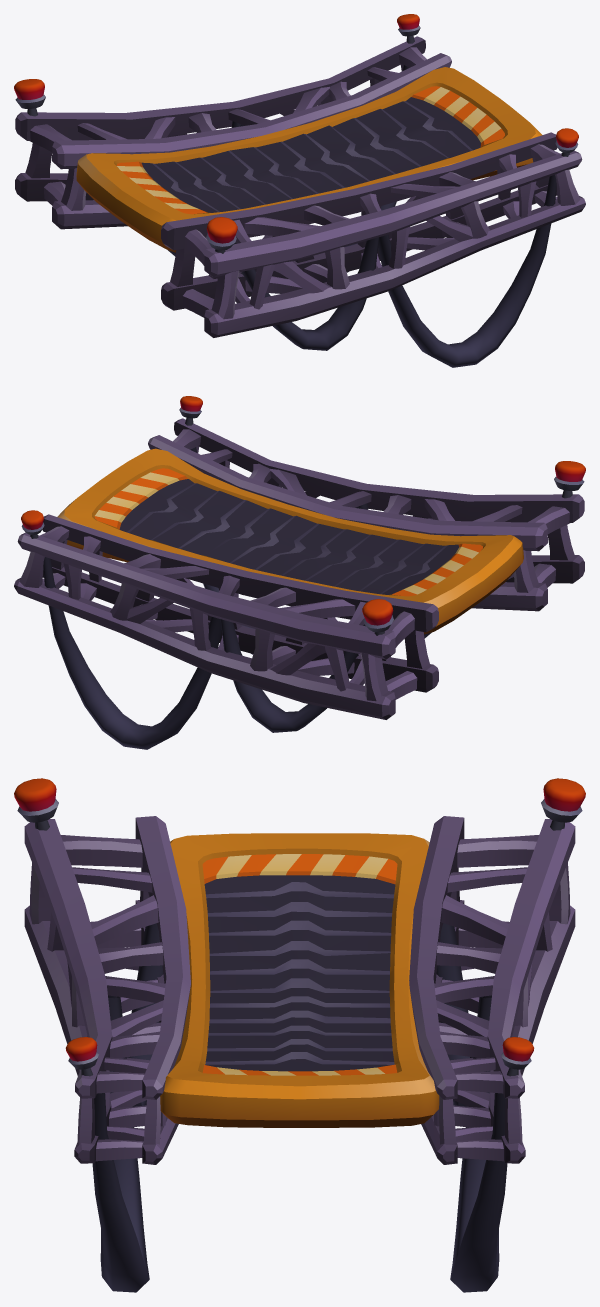
The model's file is SN_Prison_Canteen_01.fbx.
3 renders of one model, top to bottom at view 1: azimuth 30°, elevation 25°; view 2: azimuth 150°, elevation 25°; view 3: azimuth 270°, elevation 25°, orthographic. The views are drawn at different scales.
Visible parts, largest first — view 1: SN_Prison_Canteen_01; view 2: SN_Prison_Canteen_01; view 3: SN_Prison_Canteen_01.
Part boxes in pixels (x1=…): SN_Prison_Canteen_01: x1=14, y1=14, x2=585, y2=367; SN_Prison_Canteen_01: x1=14, y1=396, x2=585, y2=749; SN_Prison_Canteen_01: x1=14, y1=778, x2=585, y2=1292.
Bounding box in the file's own units: 7.03 × 3.94 × 6.37.
